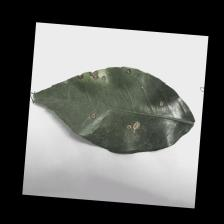canker: (72, 59, 170, 137)
